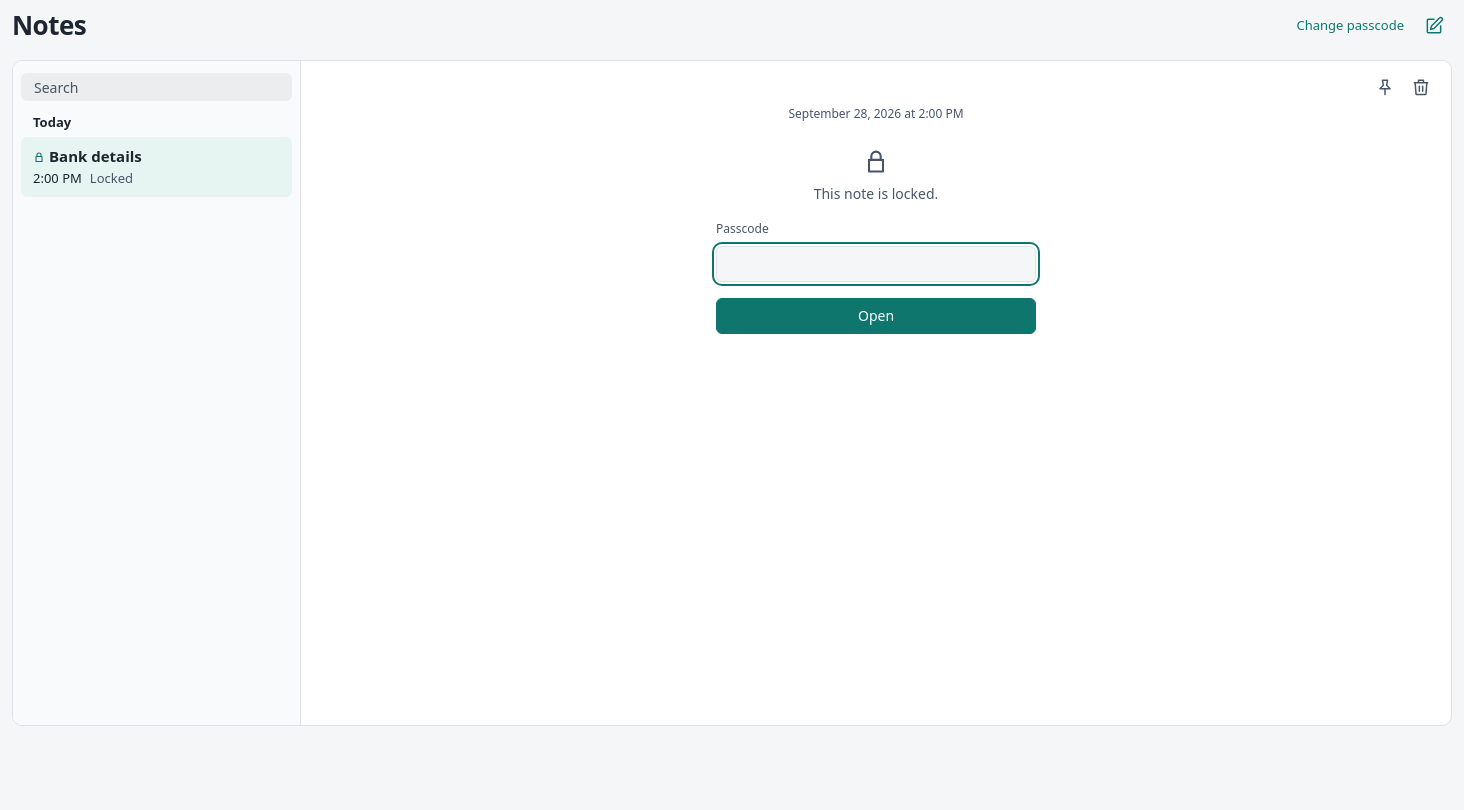
Test case: AC-82.4 Lock now closes the locked notes again
Type "hunter22" into the password field labelled "Passcode". click: coordinates (876, 264)
box: [716,246,1036,282]
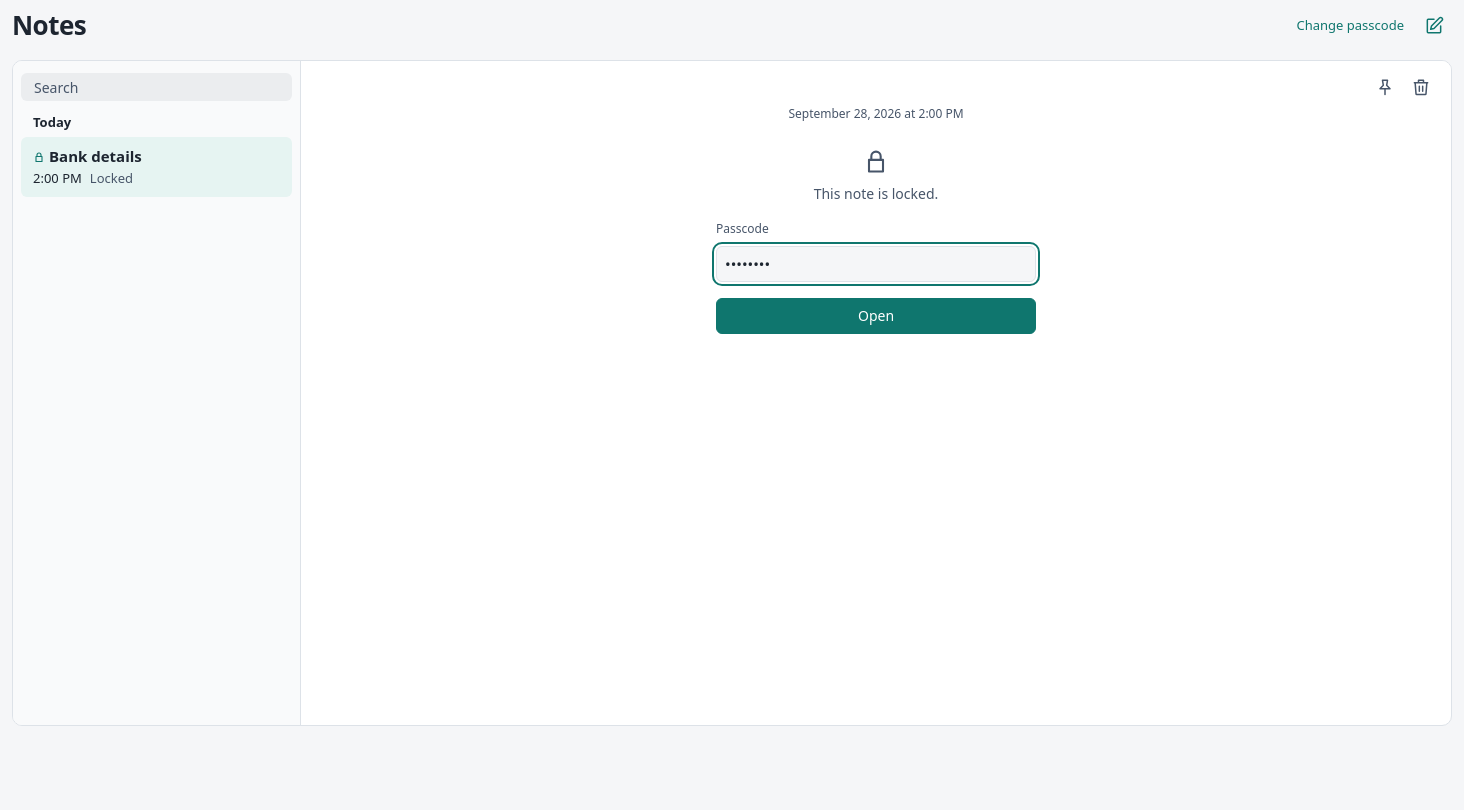
Click the button "Open". click: coordinates (876, 316)
box: [716,298,1036,334]
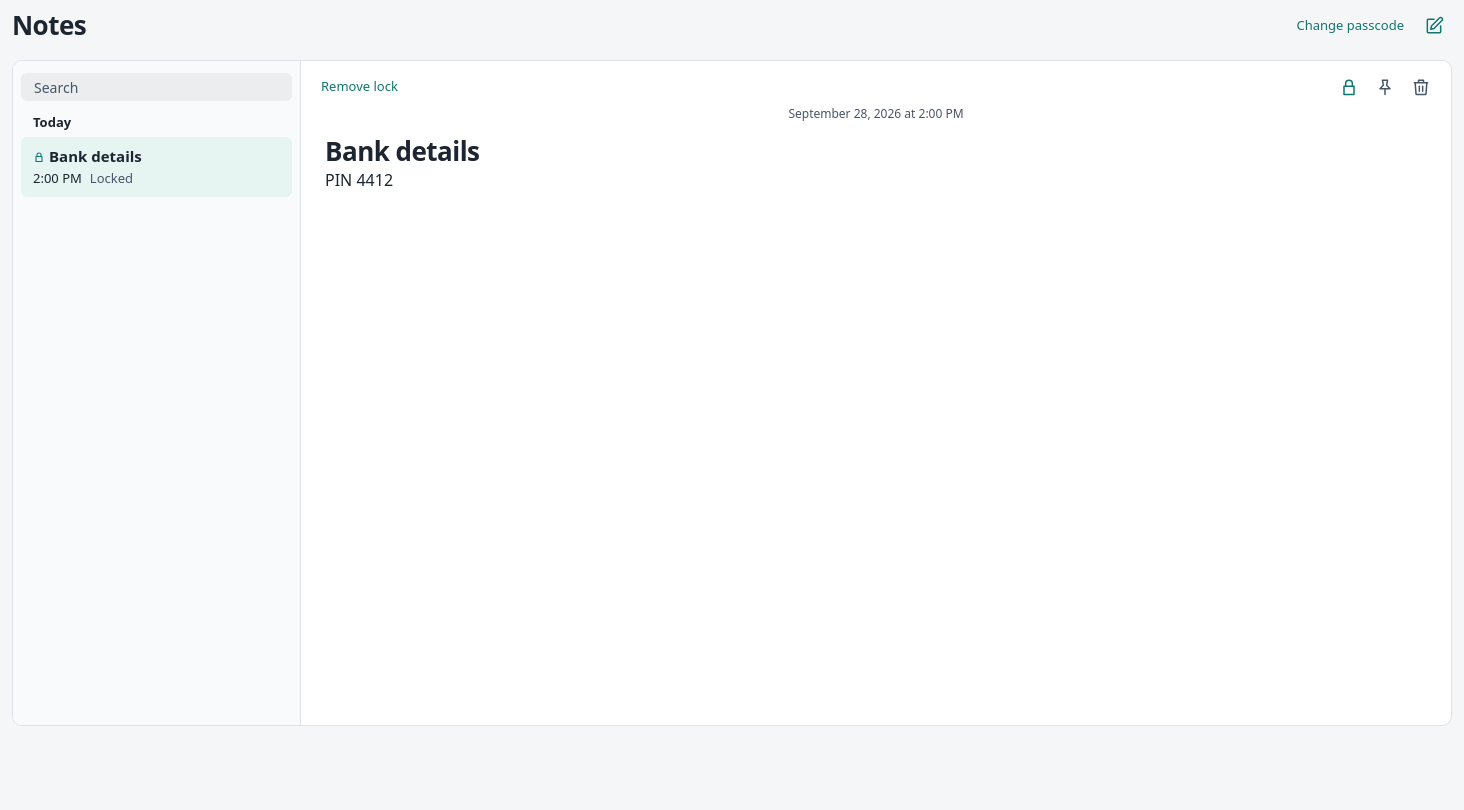
Click the button named "Lock now". click: coordinates (1349, 87)
box: [1331,69,1367,105]
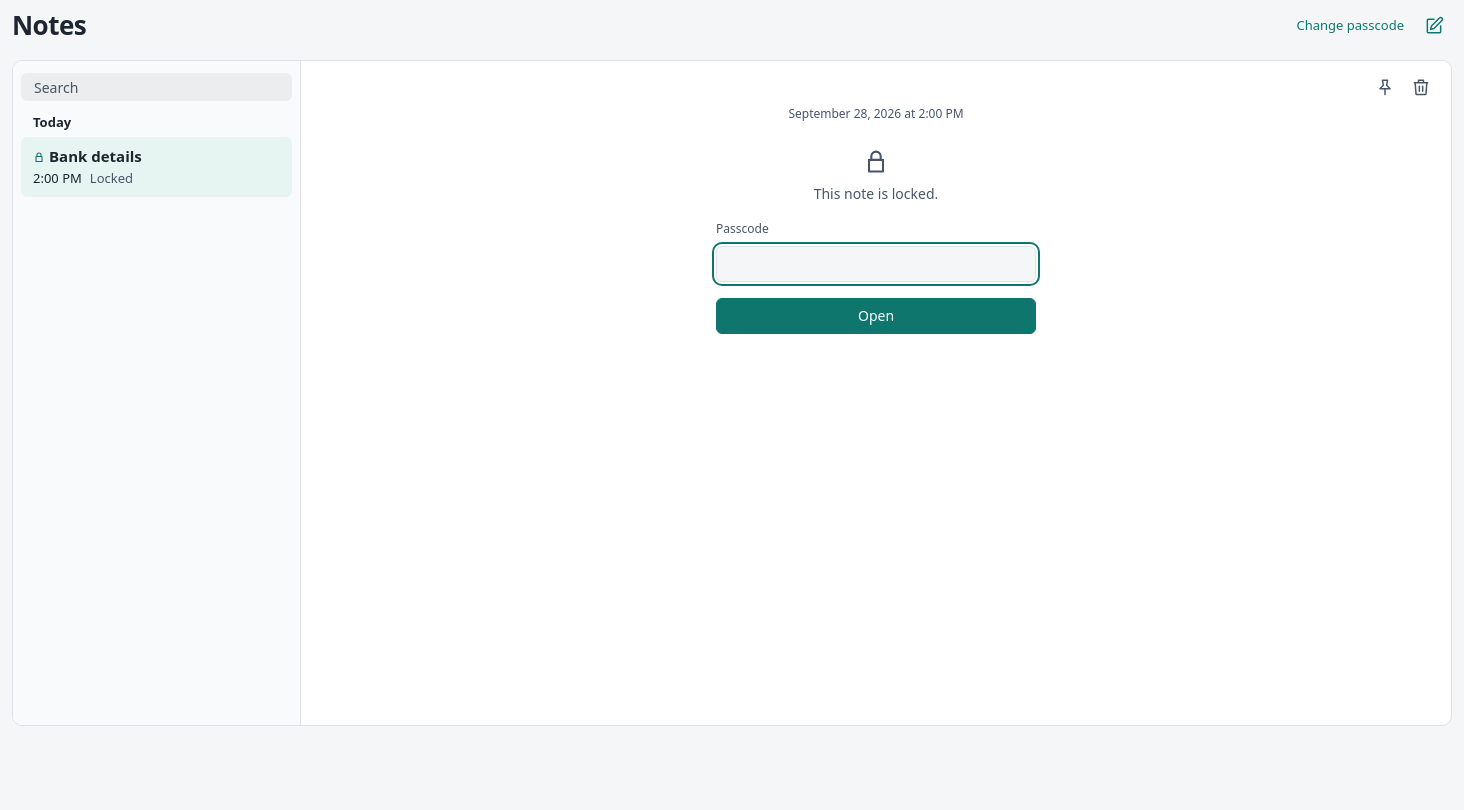
expect the password field labelled "Passcode" is shown: met, box [716,246,1036,282]
